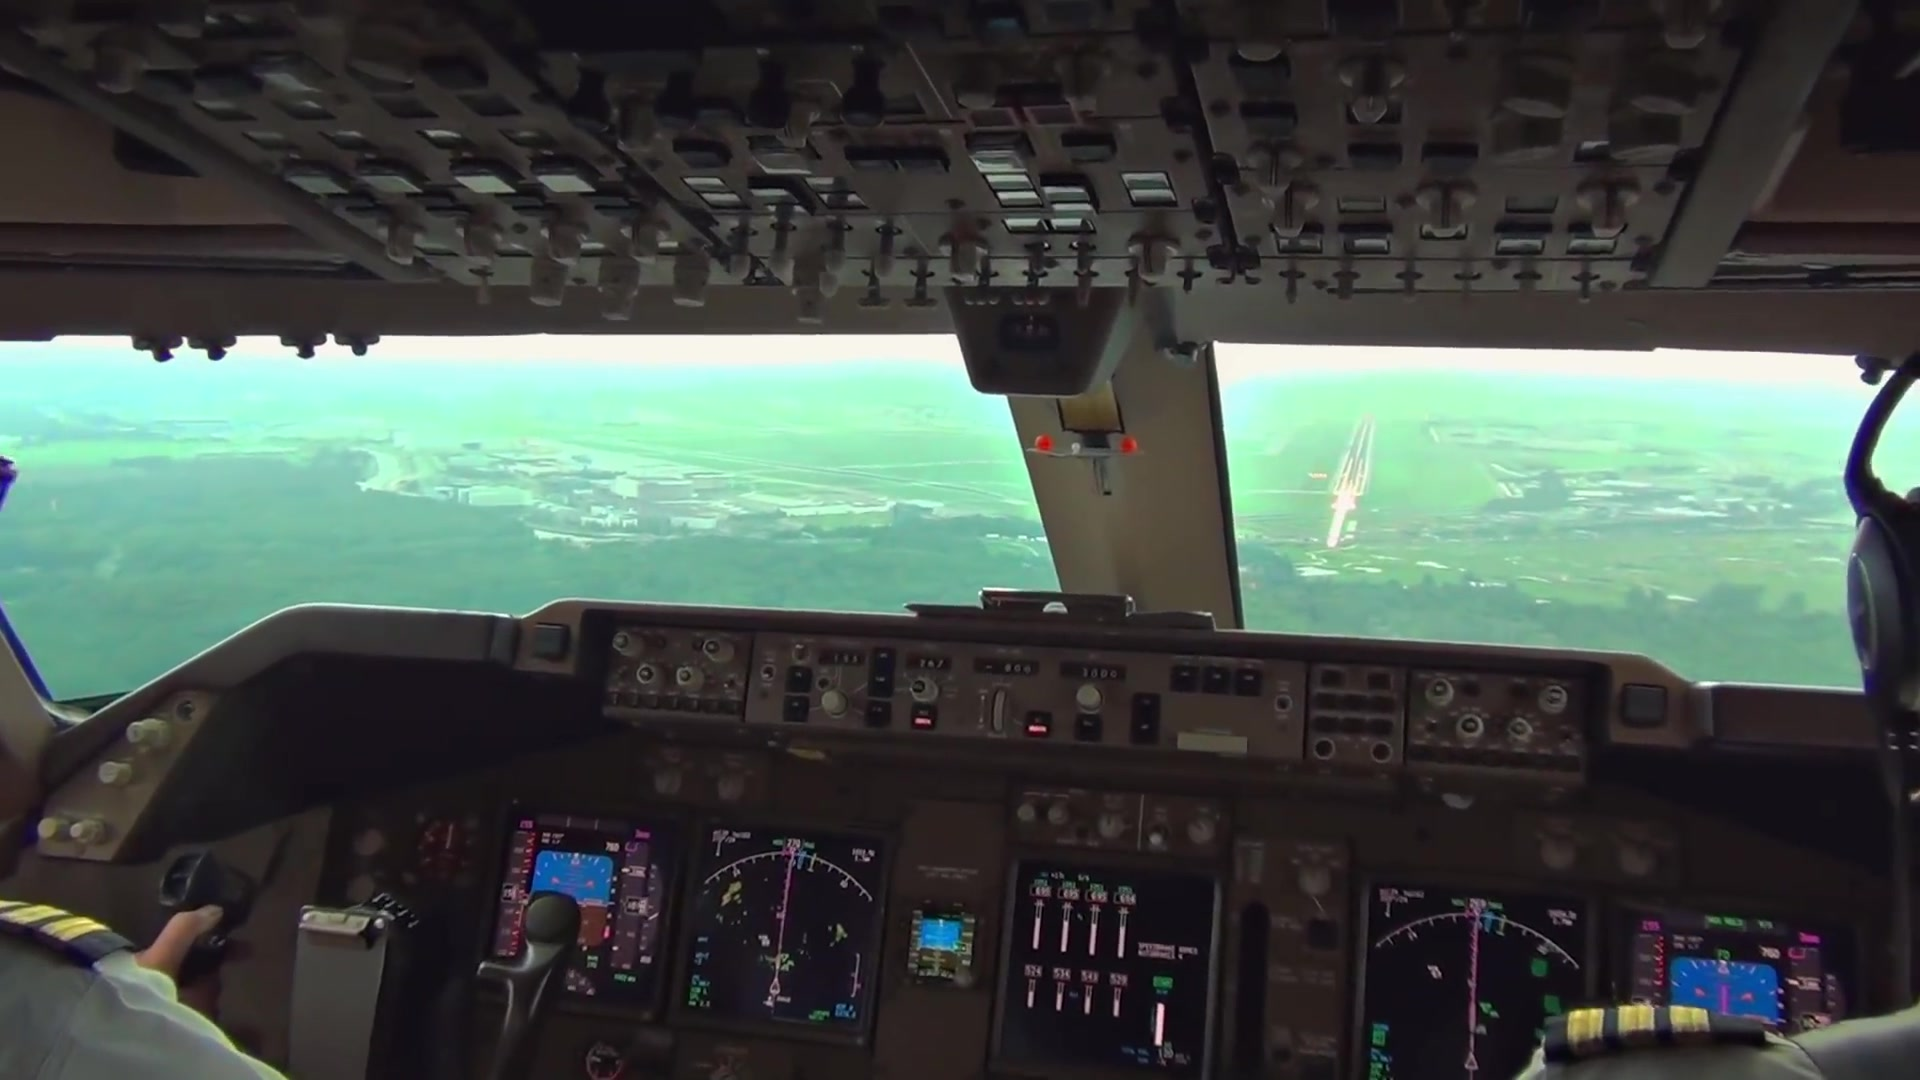runway: (1332, 415, 1377, 496)
